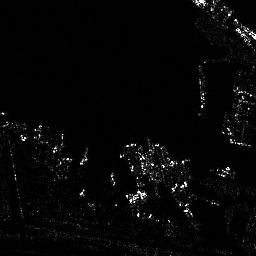ship: (197, 65, 206, 110)
